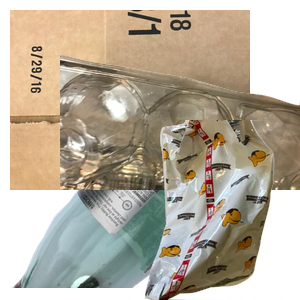cardboard: (10, 10, 250, 190)
glass: (10, 120, 224, 300)
plastic: (60, 52, 300, 232)
trash: (127, 120, 300, 300)
